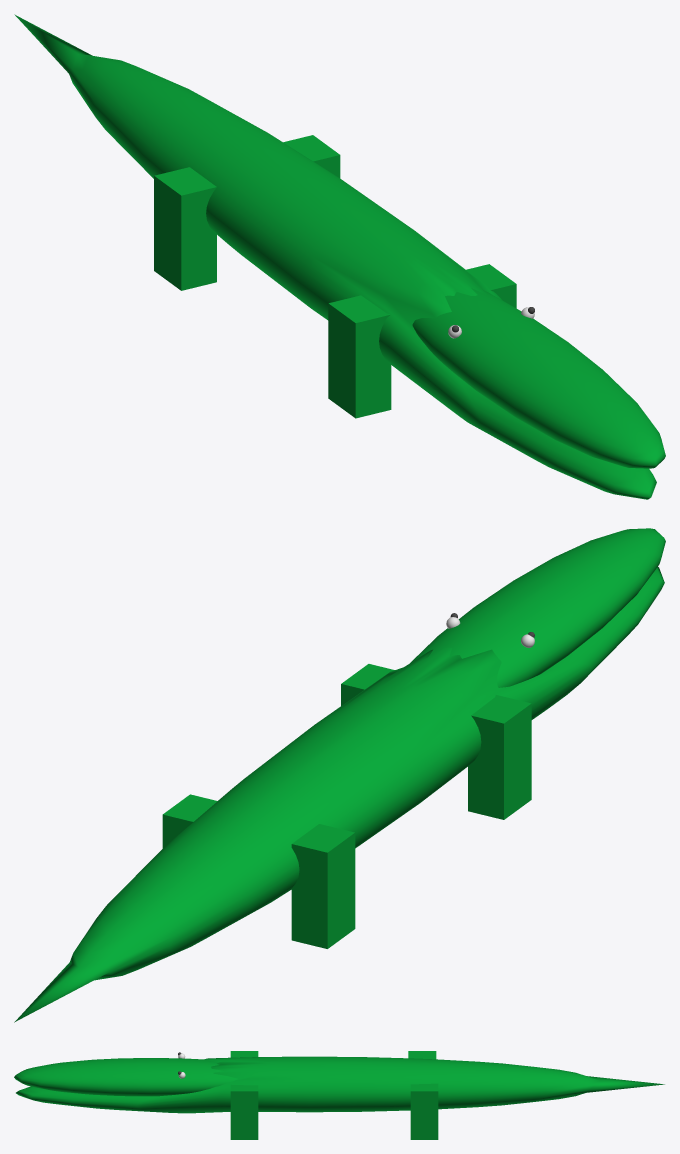
File: Crocodile.fbx
3 renders of one model, top to bottom at view 1: azimuth 30°, elevation 25°; view 2: azimuth 150°, elevation 25°; view 3: azimuth 270°, elevation 25°, orthographic. The views are drawn at different scales.
Parts seen in each view (by area): view 1: pCube7; view 2: pCube7; view 3: pCube7.
Part boxes in pixels (x1=…): pCube7: x1=14, y1=14, x2=665, y2=499; pCube7: x1=14, y1=528, x2=665, y2=1022; pCube7: x1=14, y1=1051, x2=664, y2=1139.
Bounding box in the file's own units: 1.77 × 1.23 × 12.15.
